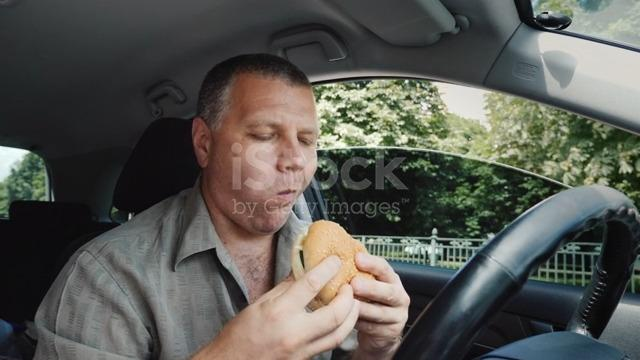Eating: (180, 47, 410, 326)
